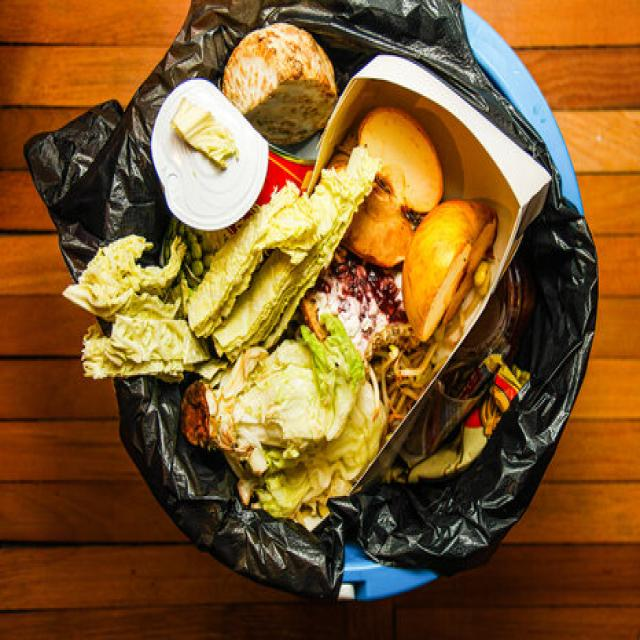trash: (138, 80, 492, 476)
